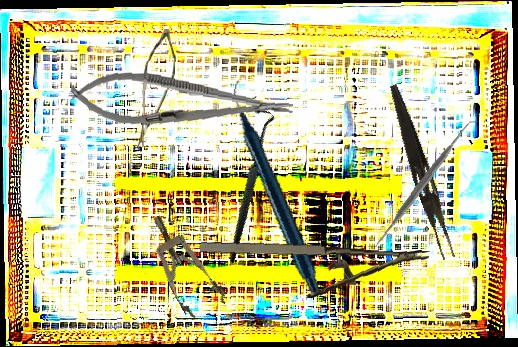Dressing Forceps: (380, 83, 462, 261)
Handpiece: (191, 79, 365, 296)
Hook Surgical: (168, 103, 325, 264)
Micro Scissor: (136, 27, 177, 153)
Needle Holder: (197, 235, 430, 306), (68, 66, 295, 138)
Spatula Surgical: (361, 121, 485, 247)
Speculum: (136, 205, 231, 323)
